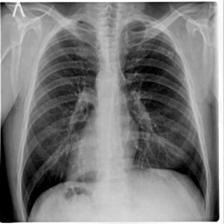tuberculosis: (18, 15, 212, 219)
